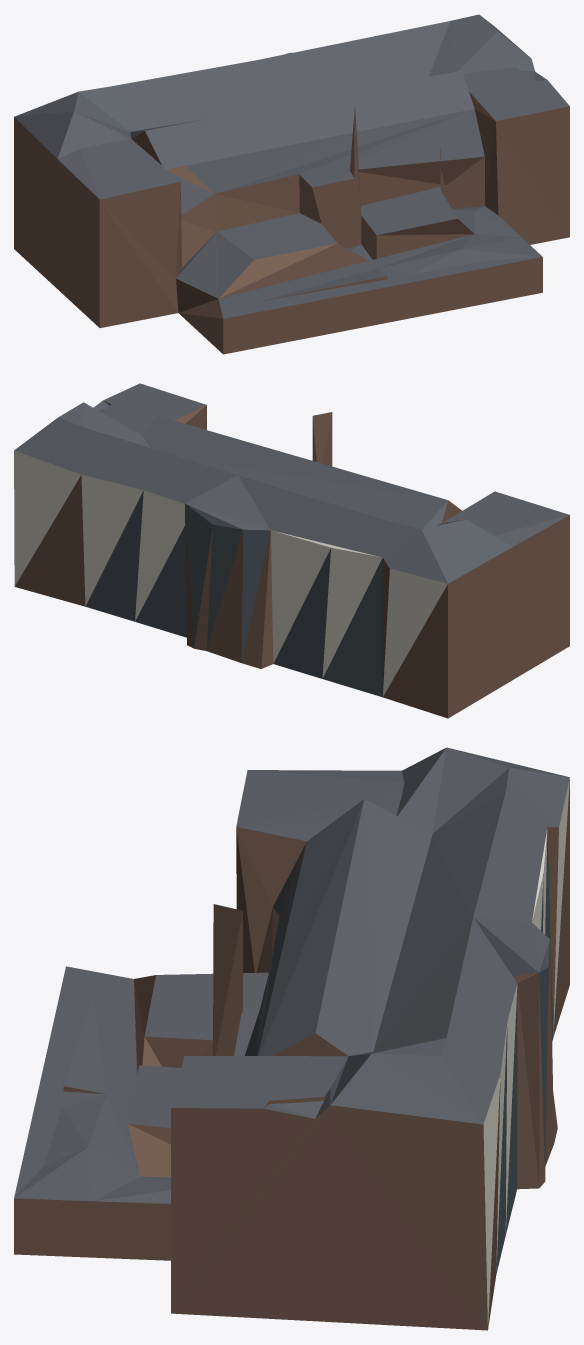
The model's file is de-ateliers.lod2.glb.
3 renders of one model, top to bottom at view 1: azimuth 30°, elevation 25°; view 2: azimuth 150°, elevation 25°; view 3: azimuth 270°, elevation 25°, orthographic. The views are drawn at different scales.
Parts seen in each view (by area): view 1: lod2; view 2: lod2; view 3: lod2.
Boxes of the visible parts, x1,y1,x2,y2 form: lod2: [14, 14, 569, 354]; lod2: [14, 383, 569, 718]; lod2: [14, 747, 569, 1330].
Bounding box in the file's own units: 62.23 × 20.6 × 40.61.
